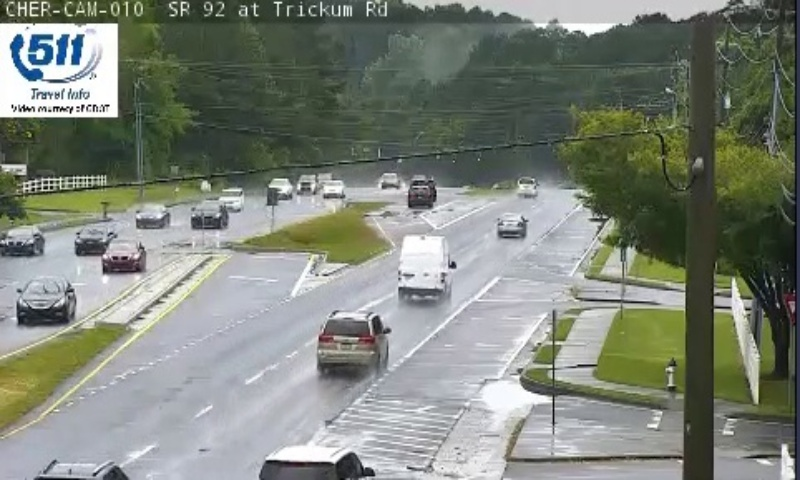car: (317, 310, 386, 364), (497, 214, 526, 236)
van: (398, 234, 449, 295)
